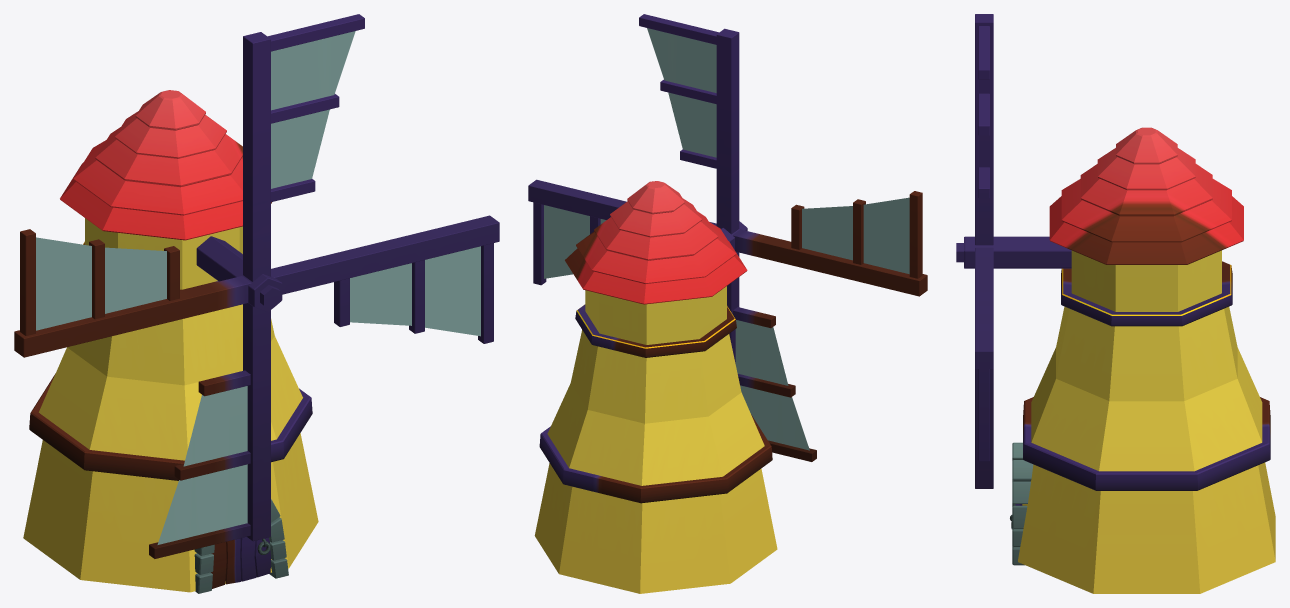
File: FBX_Windmill.fbx
3 renders of one model, left to right at view 1: azimuth 30°, elevation 25°; view 2: azimuth 150°, elevation 25°; view 3: azimuth 270°, elevation 25°, orthographic. The views are drawn at different scales.
Visible parts, largest first — view 1: M_Windmill; view 2: M_Windmill; view 3: M_Windmill.
Boxes of the visible parts, x1,y1,x2,y2 form: M_Windmill: (14,14,499,593); M_Windmill: (528,14,927,593); M_Windmill: (956,14,1275,593).
Size of the model in its own units: 13.05 by 14.7 by 8.1.
